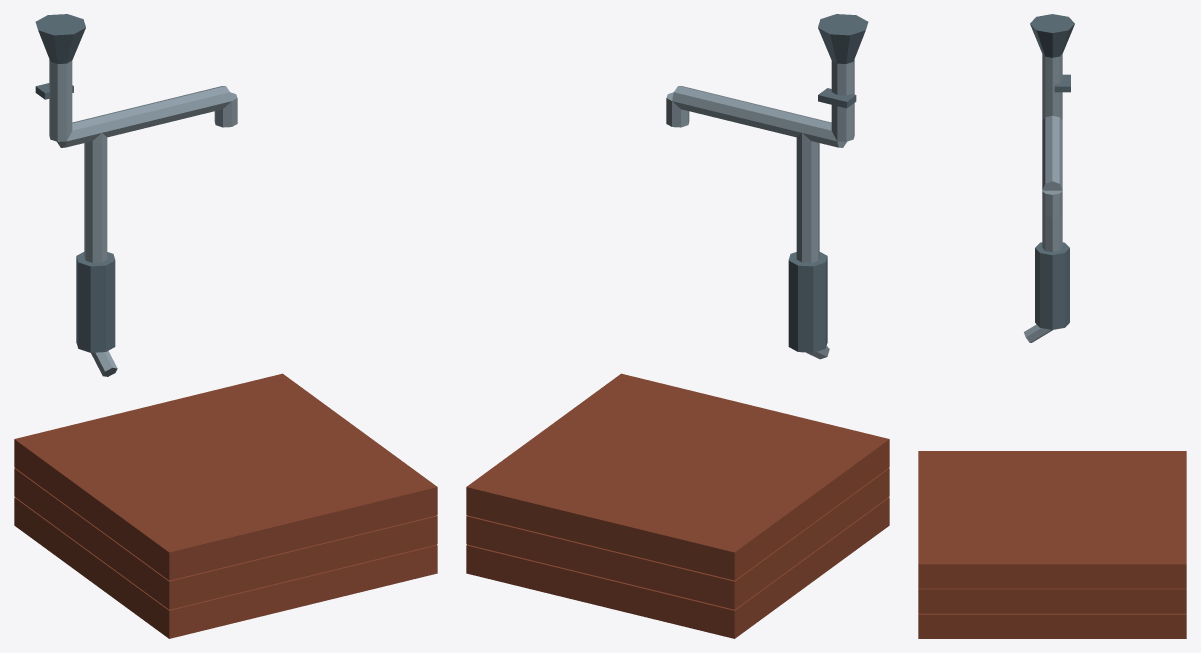
File: downpipe.glb
The picture shows the model from 3 angles, left to right: view 1: azimuth 30°, elevation 25°; view 2: azimuth 150°, elevation 25°; view 3: azimuth 270°, elevation 25°; orthographic projection. The views are drawn at different scales.
Visible parts, largest first — view 1: downpipe; view 2: downpipe; view 3: downpipe.
Part boxes in pixels (<box>): downpipe: <box>14,14,437,638</box>; downpipe: <box>466,14,889,638</box>; downpipe: <box>918,14,1186,638</box>.
Size of the model in its own units: 1.56 by 2.62 by 1.3.
